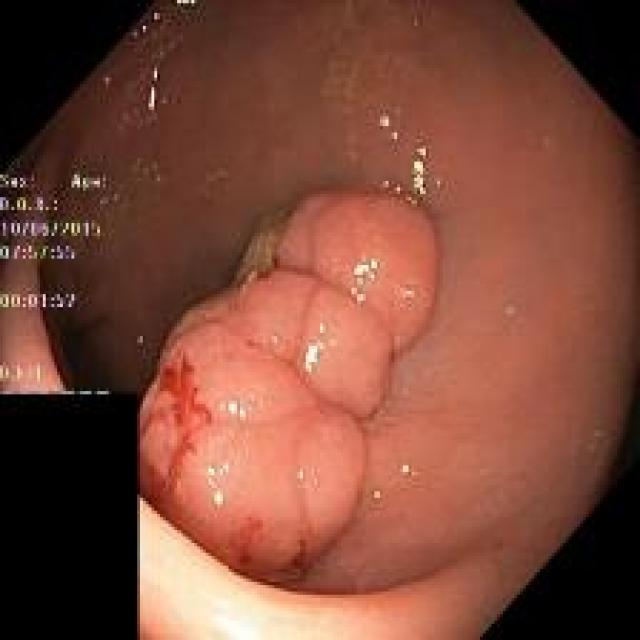Polyps: (141, 189, 438, 584)
